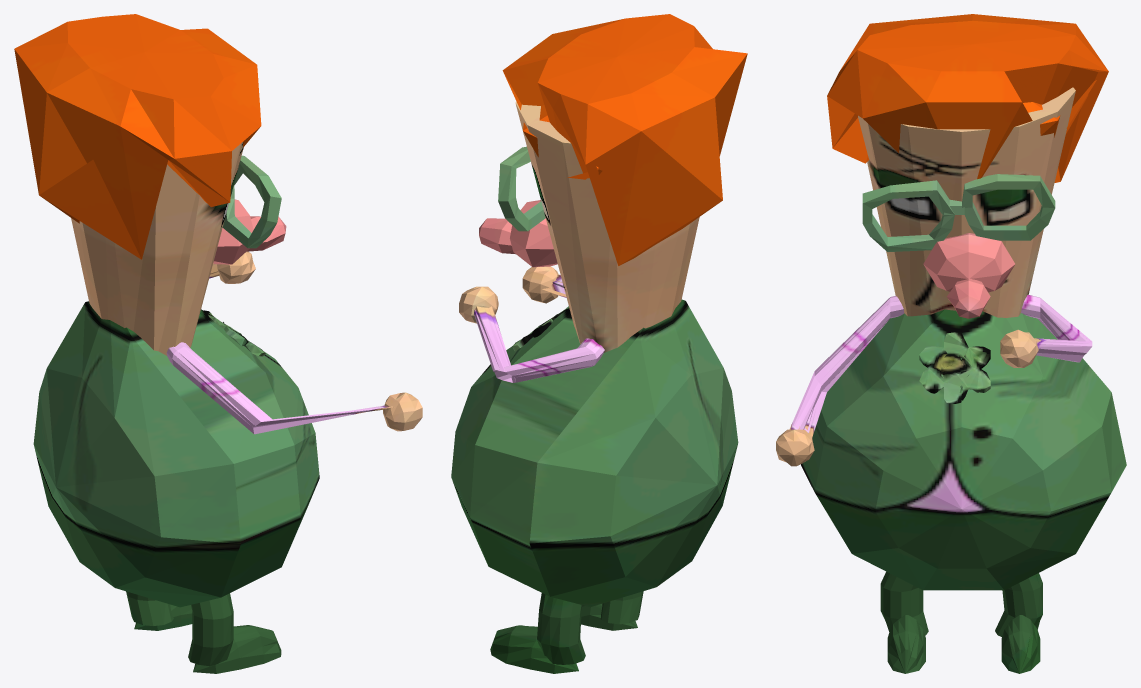
The model's file is ShikMega.glb.
3 renders of one model, left to right at view 1: azimuth 30°, elevation 25°; view 2: azimuth 150°, elevation 25°; view 3: azimuth 270°, elevation 25°, orthographic. The views are drawn at different scales.
Parts seen in each view (by area): view 1: ShikMega; view 2: ShikMega; view 3: ShikMega.
Boxes of the visible parts, x1,y1,x2,y2 form: ShikMega: (14,14,422,673); ShikMega: (451,14,747,673); ShikMega: (776,14,1126,673).
Size of the model in its own units: 113 by 223 by 122.
Materials: 1 (1 with a texture image).
